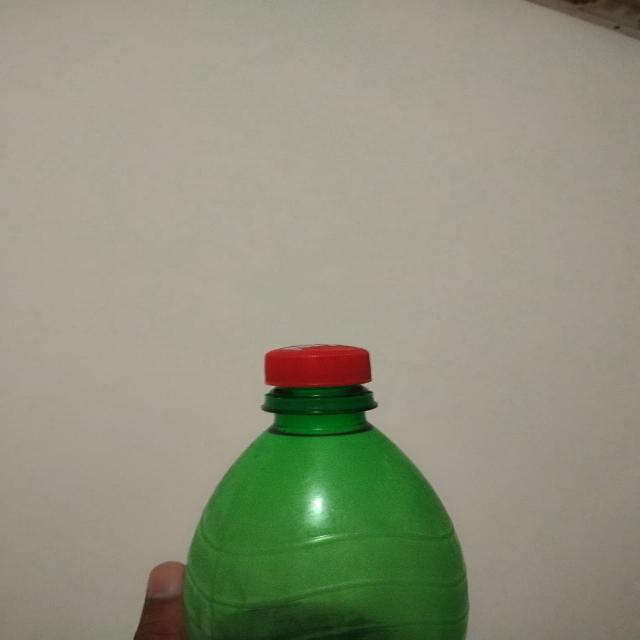cap: (260, 346, 376, 408)
